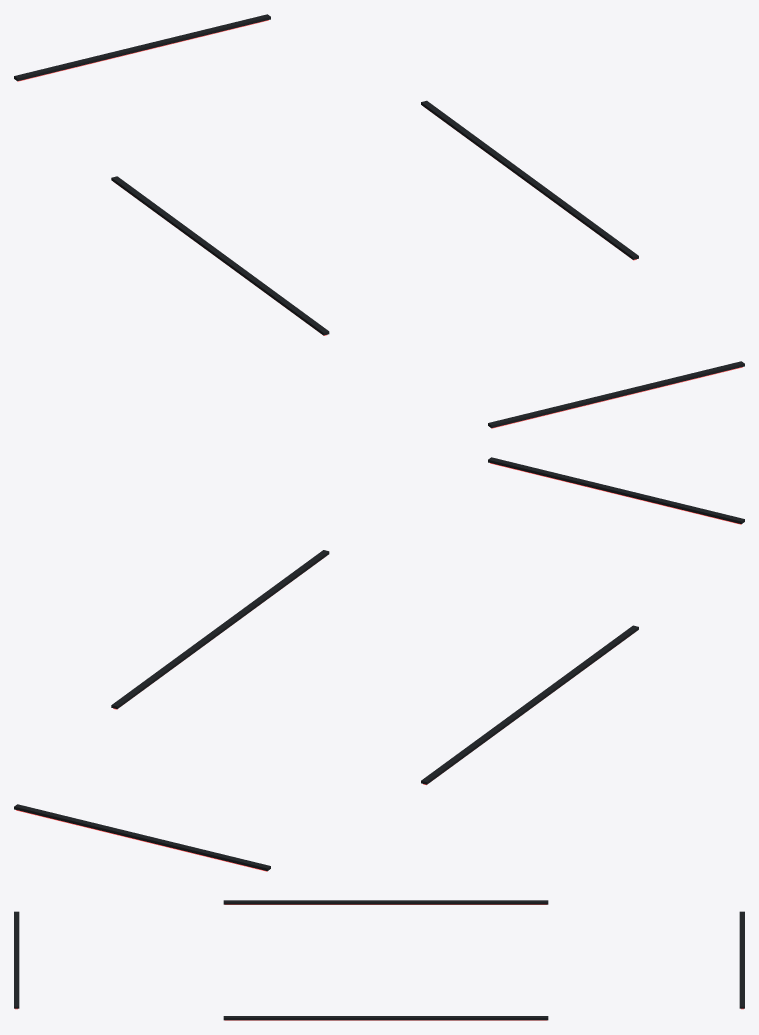
File: kaze_gt.glb
The picture shows the model from 3 angles, top to bottom: view 1: azimuth 30°, elevation 25°; view 2: azimuth 150°, elevation 25°; view 3: azimuth 270°, elevation 25°; orthographic projection. The views are drawn at different scales.
Parts seen in each view (by area): view 1: model; view 2: model; view 3: model.
Boxes of the visible parts, x1,y1,x2,y2 form: model: [14, 14, 744, 428]; model: [14, 457, 744, 871]; model: [14, 900, 744, 1020].
Size of the model in its own units: 1.49 by 0.0181 by 3.9.
Materials: 2 (1 with a texture image).
